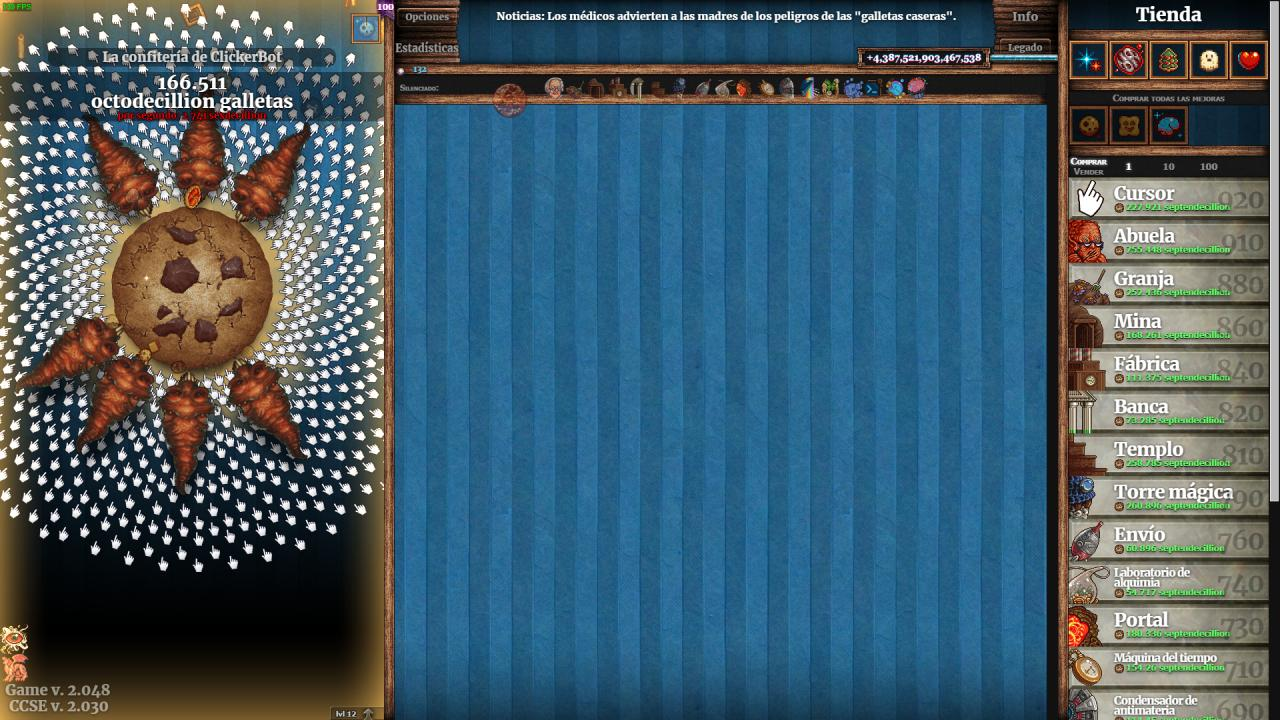RedCookie: (492, 82, 528, 121)
